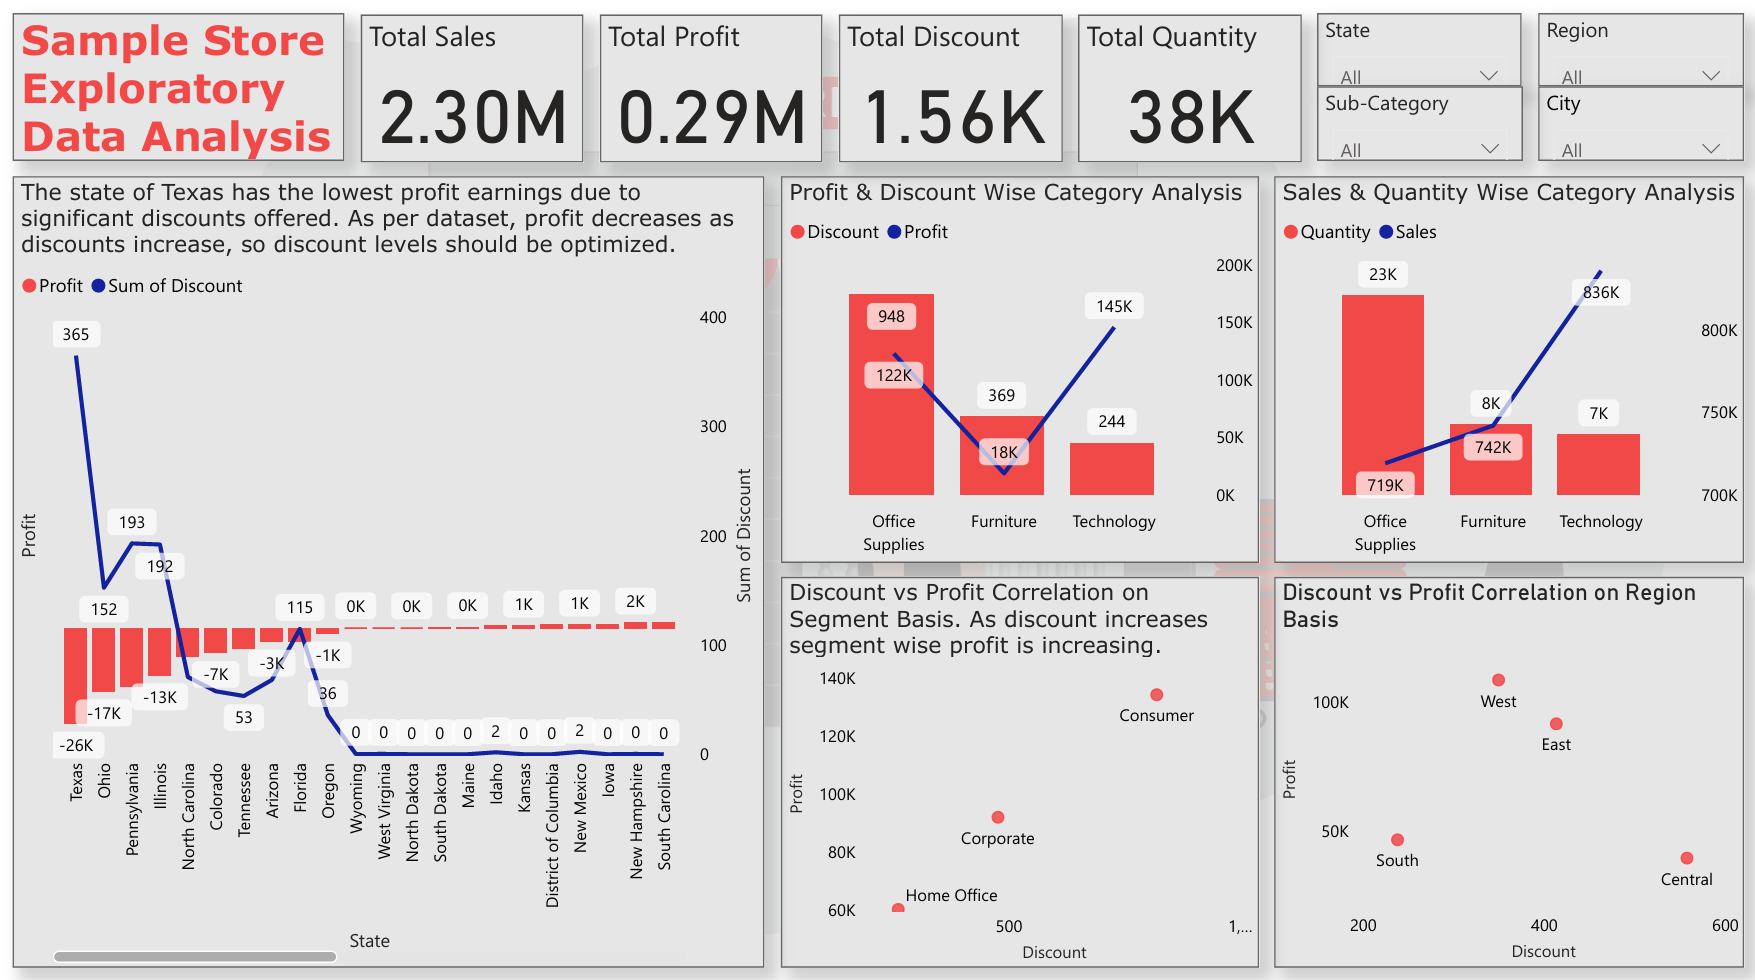

Layout of this report page (visuals, bound fields, positions):
{"tool":"powerbi","page":{"name":"Categorywise  Analysis","canvas":[1280,720],"ordinal":0},"visuals":[{"type":"lineStackedColumnComboChart","title":"Profit & Discount Wise Category Analysis","fields":{"Category":["SampleSuperstore.Category"],"Y2":["Sum(SampleSuperstore.Profit)"],"Y":["Sum(SampleSuperstore.Discount)"]},"box":[572.9,131.4,345.7,280],"z":0},{"type":"lineStackedColumnComboChart","title":"Sales & Quantity Wise Category Analysis","fields":{"Category":["SampleSuperstore.Category"],"Y":["Sum(SampleSuperstore.Quantity)"],"Y2":["Sum(SampleSuperstore.Sales)"]},"box":[930,131.4,340,280],"z":1000},{"type":"textbox","title":"Sample Store Exploratory Data Analysis","box":[17.1,12.9,240,107.1],"z":2000},{"type":"scatterChart","title":"Discount vs Profit Correlation on Region Basis","fields":{"X":["Sum(SampleSuperstore.Discount)"],"Y":["Sum(SampleSuperstore.Profit)"],"Category":["SampleSuperstore.Region"],"Series":["SampleSuperstore.Region (clusters) 3"]},"box":[930,421.4,340,282.9],"z":3000},{"type":"scatterChart","title":"Discount vs Profit Correlation on Segment Basis. As discount increases segment wise profit is increasing.","fields":{"X":["Sum(SampleSuperstore.Discount)"],"Y":["Sum(SampleSuperstore.Profit)"],"Category":["SampleSuperstore.Segment"]},"box":[572.9,421.4,345.7,282.9],"z":4000},{"type":"slicer","title":"State","fields":{"Values":["SampleSuperstore.State"]},"box":[961.4,12.9,153,52],"z":5000},{"type":"slicer","title":"Region","fields":{"Values":["SampleSuperstore.Region"]},"box":[1117.1,12.9,152.9,52.9],"z":6000},{"type":"card","title":"Total Sales","fields":{"Values":["Sum(SampleSuperstore.Sales)"]},"box":[268.9,14.3,161.4,107.1],"z":7000},{"type":"card","title":"Total Profit","fields":{"Values":["Sum(SampleSuperstore.Profit)"]},"box":[442,14.3,161.4,107.1],"z":8000},{"type":"card","title":"Total Discount","fields":{"Values":["Sum(SampleSuperstore.Discount)"]},"box":[615.1,14.3,161.4,107.1],"z":9000},{"type":"card","title":"Total Quantity","fields":{"Values":["Sum(SampleSuperstore.Quantity)"]},"box":[788.3,14.3,161.4,107.1],"z":10000},{"type":"slicer","title":"City","fields":{"Values":["SampleSuperstore.City"]},"box":[961.4,68.6,153,52.9],"z":11000},{"type":"lineStackedColumnComboChart","title":"The state of Texas has the lowest profit earnings due to significant discounts offered. As per dataset, profit decreases as discounts increase, so discount levels should be optimized.","fields":{"Category":["SampleSuperstore.State"],"Y2":["Sum(SampleSuperstore.Discount)"],"Y":["Sum(SampleSuperstore.Profit)"]},"box":[17.1,130.8,544.2,573.5],"z":12000},{"type":"slicer","title":"Sub-Category","fields":{"Values":["SampleSuperstore.Sub-Category"]},"box":[1117.1,68.6,152.9,52.9],"z":13000}]}

Visuals, with their boxes in screenshot pixels (x1, y1, x2, y2), scaled from the page's 1280x720 canvas onto the 1755x980 screenshot:
"Profit & Discount Wise Category Analysis" lineStackedColumnComboChart: bbox=(785, 179, 1259, 560)
"Sales & Quantity Wise Category Analysis" lineStackedColumnComboChart: bbox=(1275, 179, 1741, 560)
"Sample Store Exploratory Data Analysis" textbox: bbox=(23, 18, 353, 163)
"Discount vs Profit Correlation on Region Basis" scatterChart: bbox=(1275, 574, 1741, 959)
"Discount vs Profit Correlation on Segment Basis. As discount increases segment wise profit is increasing." scatterChart: bbox=(785, 574, 1259, 959)
"State" slicer: bbox=(1318, 18, 1528, 88)
"Region" slicer: bbox=(1532, 18, 1741, 90)
"Total Sales" card: bbox=(369, 19, 590, 165)
"Total Profit" card: bbox=(606, 19, 827, 165)
"Total Discount" card: bbox=(843, 19, 1065, 165)
"Total Quantity" card: bbox=(1081, 19, 1302, 165)
"City" slicer: bbox=(1318, 93, 1528, 165)
"The state of Texas has the lowest profit earnings due to significant discounts offered. As per dataset, profit decreases as discounts increase, so discount levels should be optimized." lineStackedColumnComboChart: bbox=(23, 178, 770, 959)
"Sub-Category" slicer: bbox=(1532, 93, 1741, 165)
